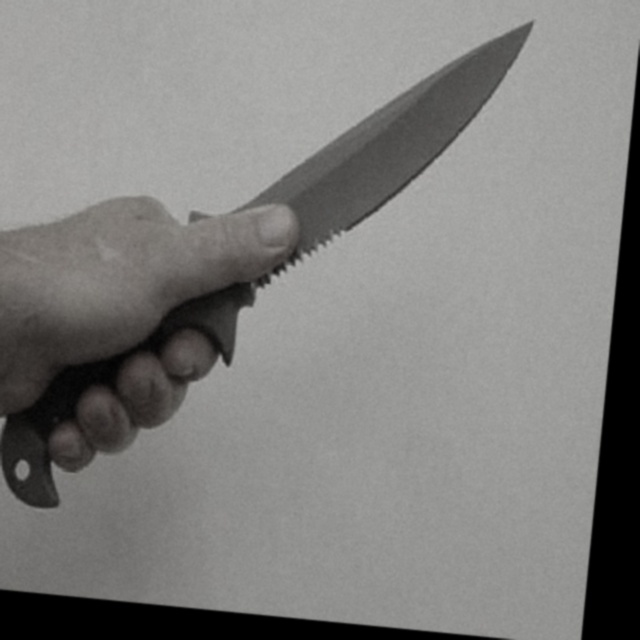Sharp-Object: (0, 0, 536, 550)
